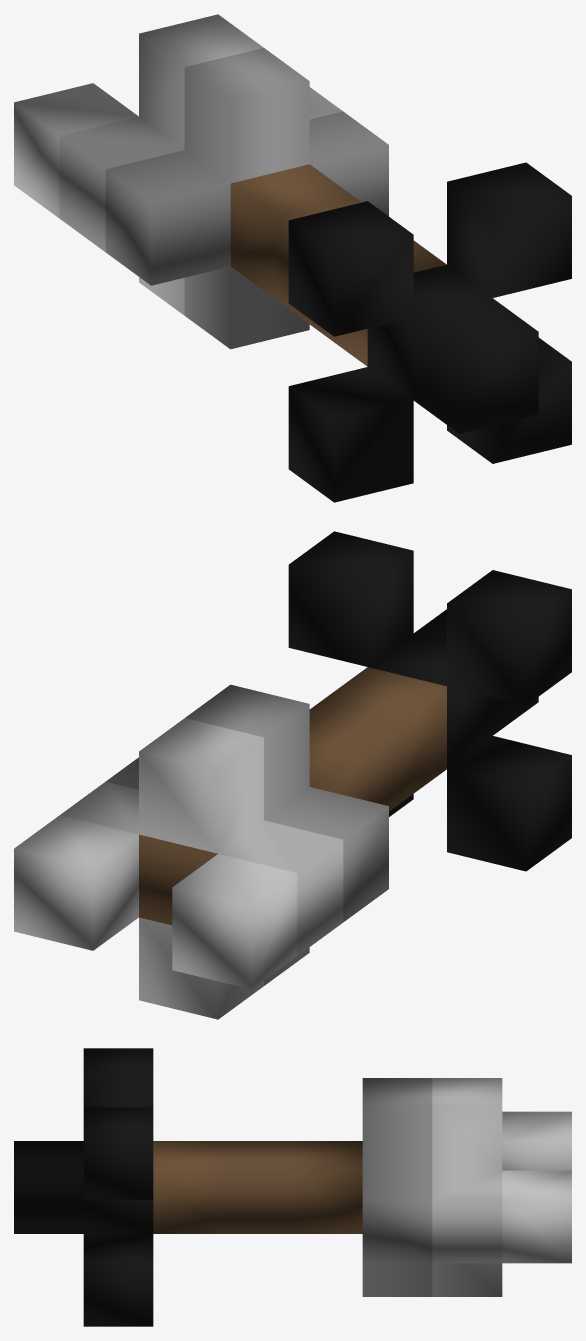
File: Arrow.fbx
3 renders of one model, top to bottom at view 1: azimuth 30°, elevation 25°; view 2: azimuth 150°, elevation 25°; view 3: azimuth 270°, elevation 25°, orthographic. The views are drawn at different scales.
Visible parts, largest first — view 1: Arrow; view 2: Arrow; view 3: Arrow.
Boxes of the visible parts, bbox=[...] form: Arrow: bbox=[14, 14, 571, 502]; Arrow: bbox=[14, 531, 571, 1019]; Arrow: bbox=[14, 1048, 571, 1326].
Size of the model in its own units: 0.3 by 0.3 by 0.8.
1 material, 1 textured.
